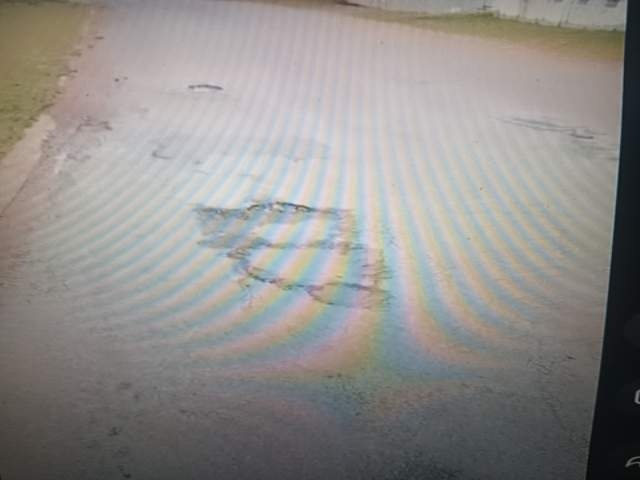pothole: (111, 403, 327, 480)
